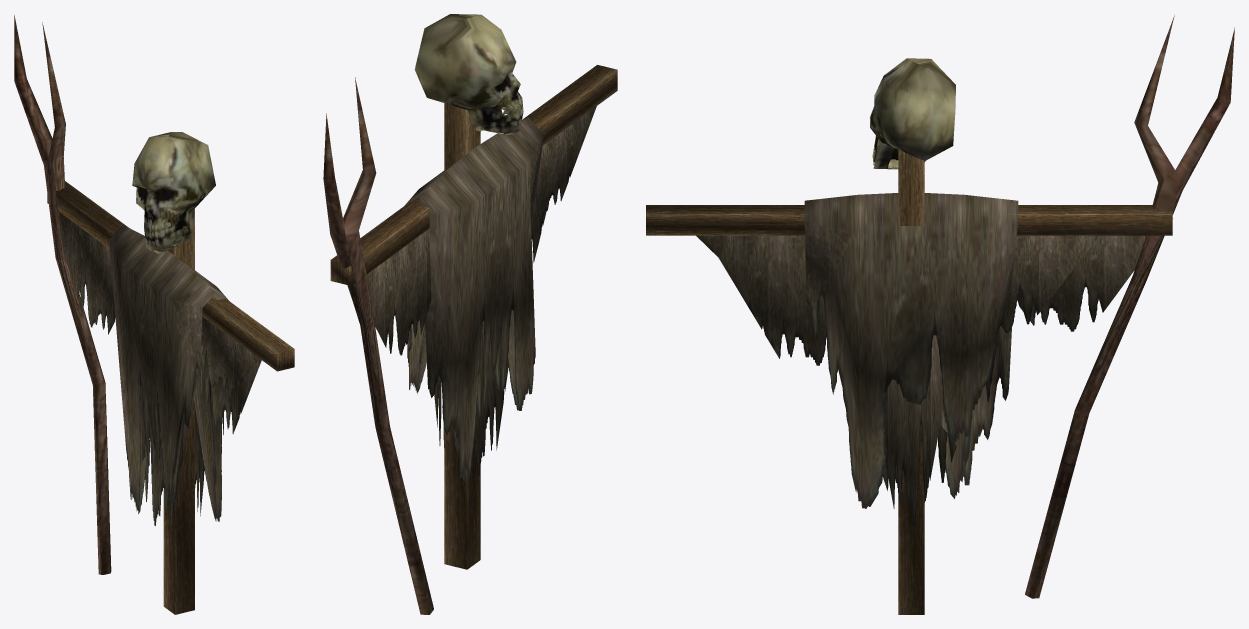
Rendered from NC_BIRDFRIGHTENER.glb.
The picture shows the model from 3 angles, left to right: view 1: azimuth 30°, elevation 25°; view 2: azimuth 150°, elevation 25°; view 3: azimuth 270°, elevation 25°; orthographic projection. The views are drawn at different scales.
Parts seen in each view (by area): view 1: Mesh; view 2: Mesh; view 3: Mesh.
Boxes of the visible parts, box(x1,y1,x2,y2) form: Mesh: box(14, 15, 294, 614); Mesh: box(323, 14, 617, 614); Mesh: box(646, 15, 1234, 614).
Bounding box in the file's own units: 0.3742 × 2.44 × 2.24.
Materials: 3 (3 with a texture image).
